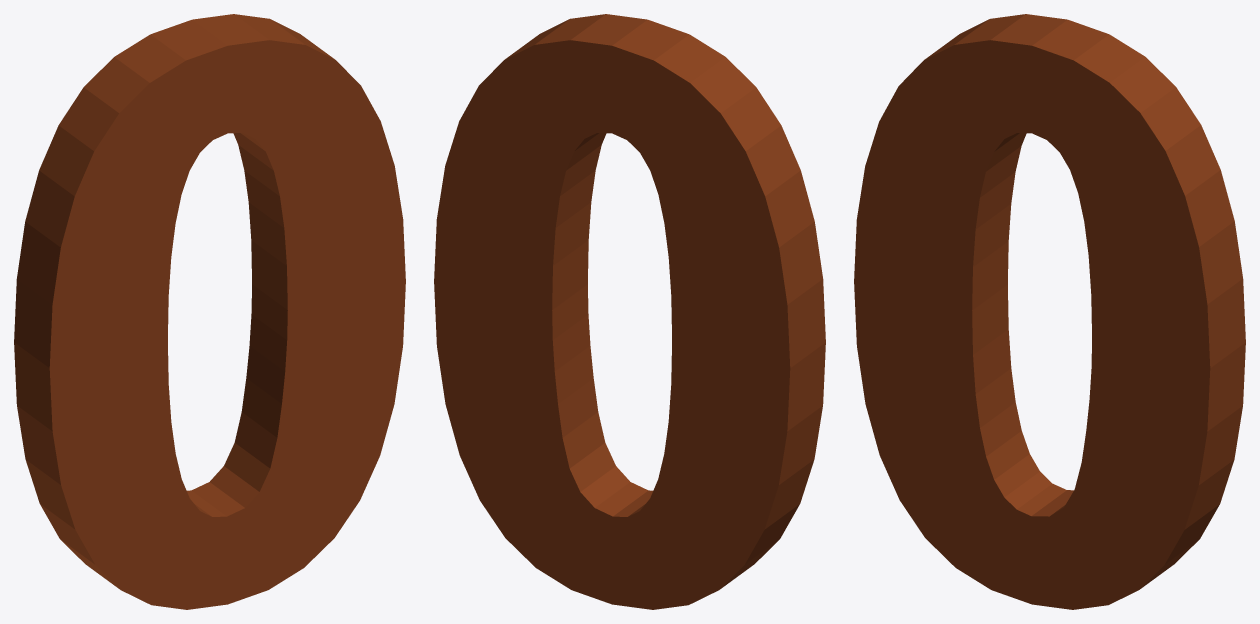
Rendered from num_0.glb.
3 renders of one model, left to right at view 1: azimuth 30°, elevation 25°; view 2: azimuth 150°, elevation 25°; view 3: azimuth 330°, elevation 25°, orthographic.
Parts seen in each view (by area): view 1: num_0; view 2: num_0; view 3: num_0.
Boxes of the visible parts, bbox=[...] form: num_0: bbox=[14, 14, 405, 609]; num_0: bbox=[434, 14, 825, 609]; num_0: bbox=[854, 14, 1245, 609].
Size of the model in its own units: 1.15 by 1.73 by 0.2.
